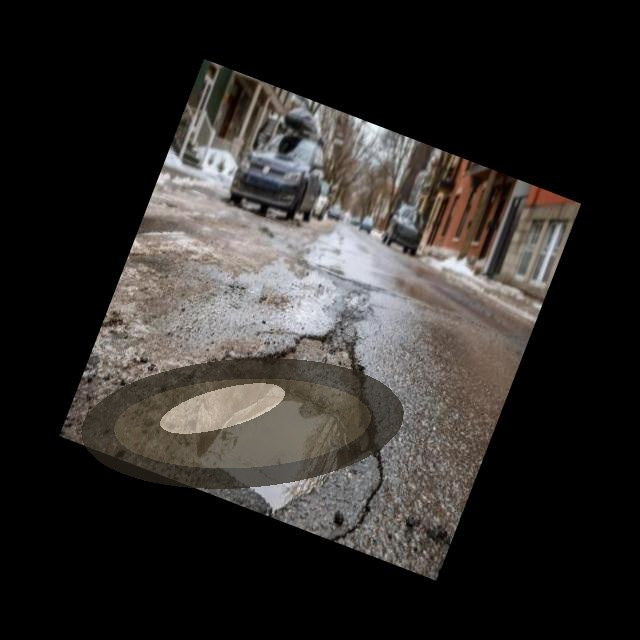waterlogging: (71, 349, 413, 497)
